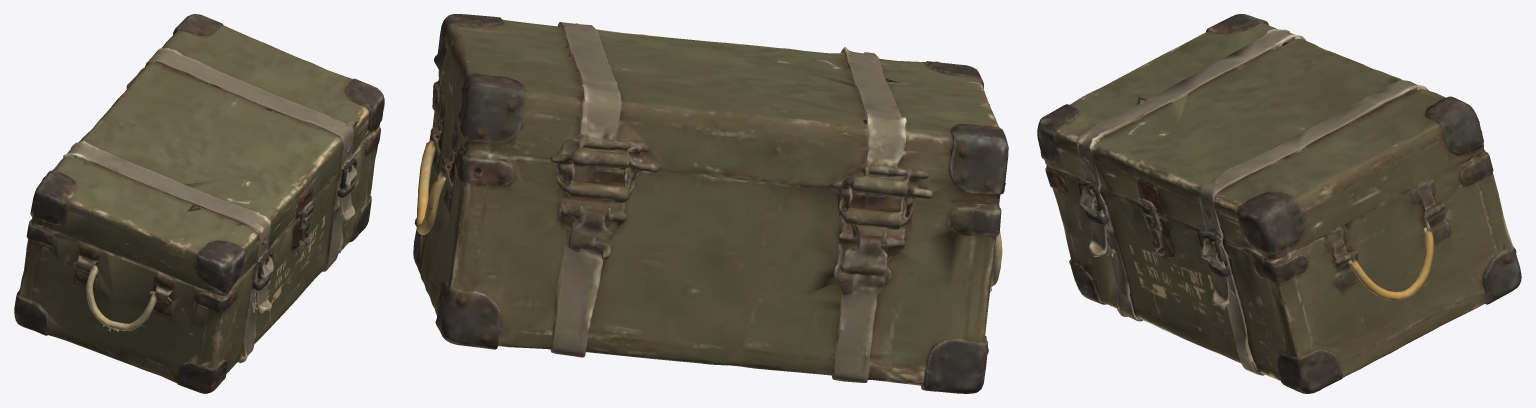
The picture shows the model from 3 angles, left to right: view 1: azimuth 30°, elevation 25°; view 2: azimuth 150°, elevation 25°; view 3: azimuth 270°, elevation 25°; orthographic projection. The views are drawn at different scales.
Bounding box in the file's own units: 0.9025 × 0.5444 × 0.8679.
1 material, 1 textured.
